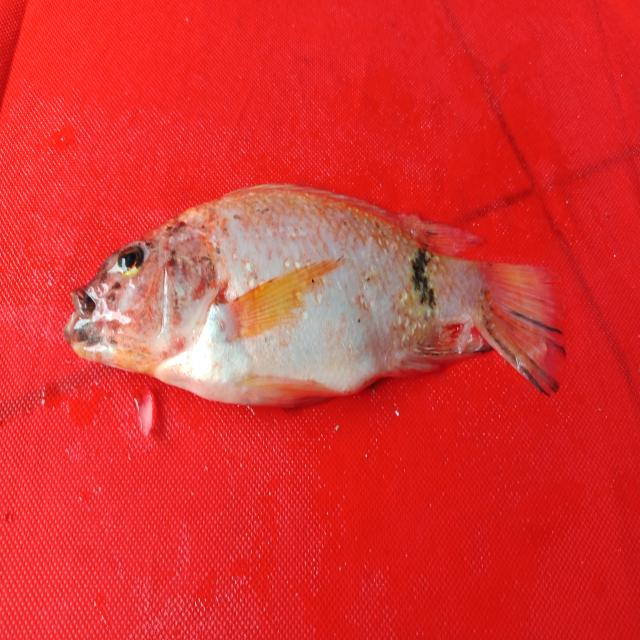ikan: (63, 181, 567, 411)
